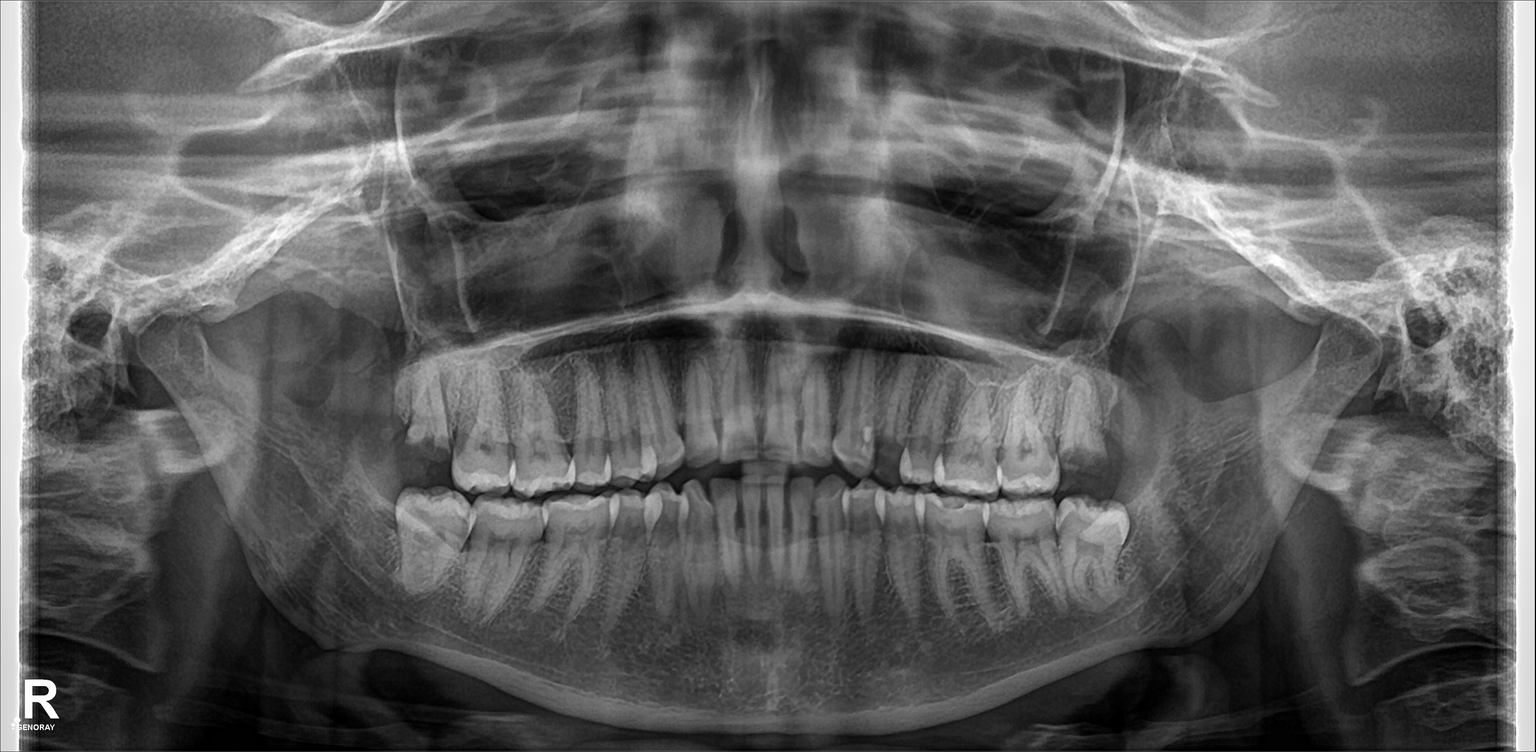Dental Caries: (402, 419, 457, 466), (1052, 426, 1104, 472), (875, 437, 898, 474)
Impacted Third Molar: (1054, 501, 1128, 600)
